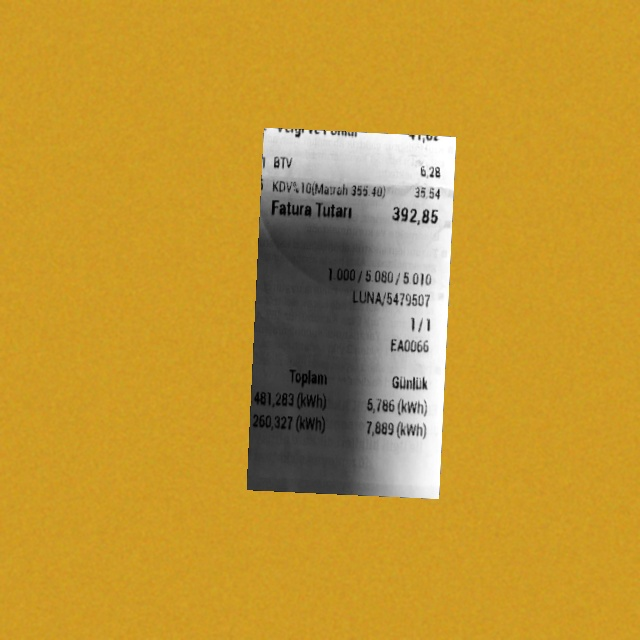electricity-bill: (247, 128, 457, 499)
